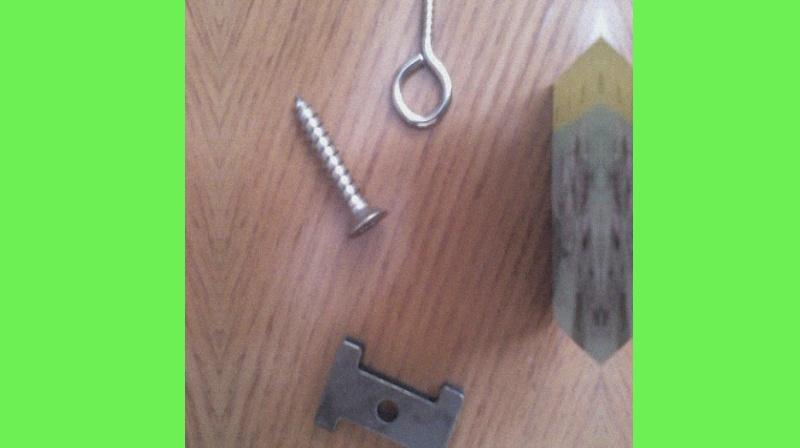O001: (389, 0, 456, 130)
O002: (310, 333, 470, 447)
S001: (288, 86, 390, 243)
